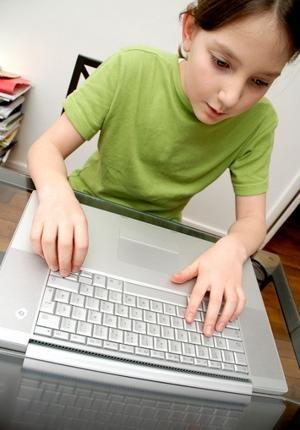person: (25, 1, 298, 340)
